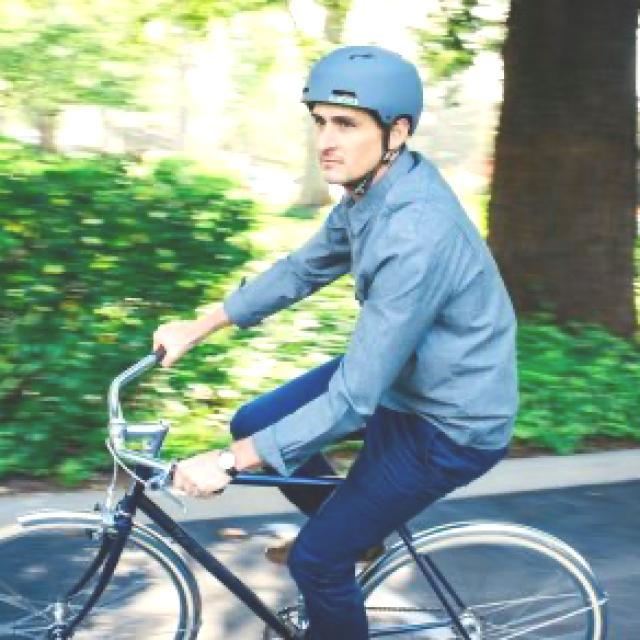Helmet: (296, 39, 428, 182)
